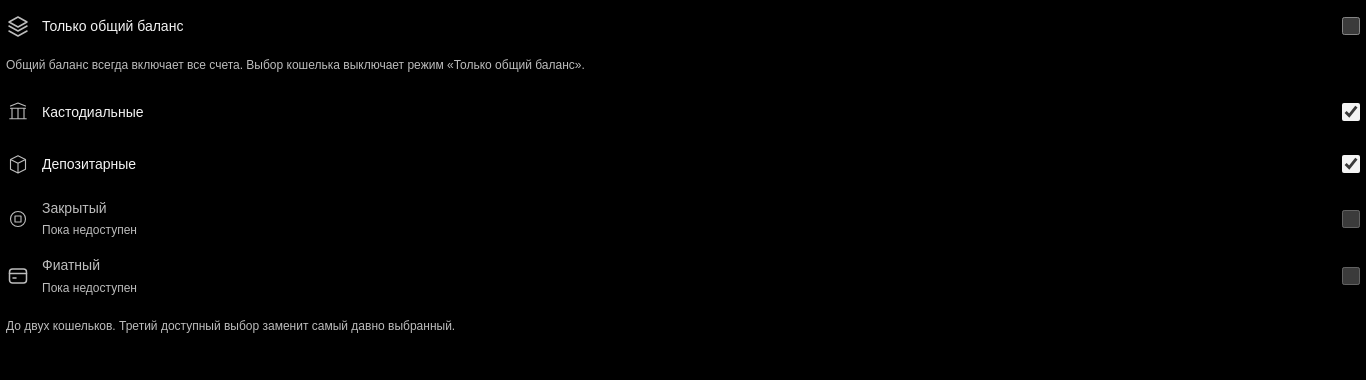
Test: keeps choices while total-only hides pins and explains how manual selection restores them
The width and height of the screenshot is (1366, 380).
Click the checkbox labelled "Только общий баланс" at (1351, 26), box [1342,17,1360,35]
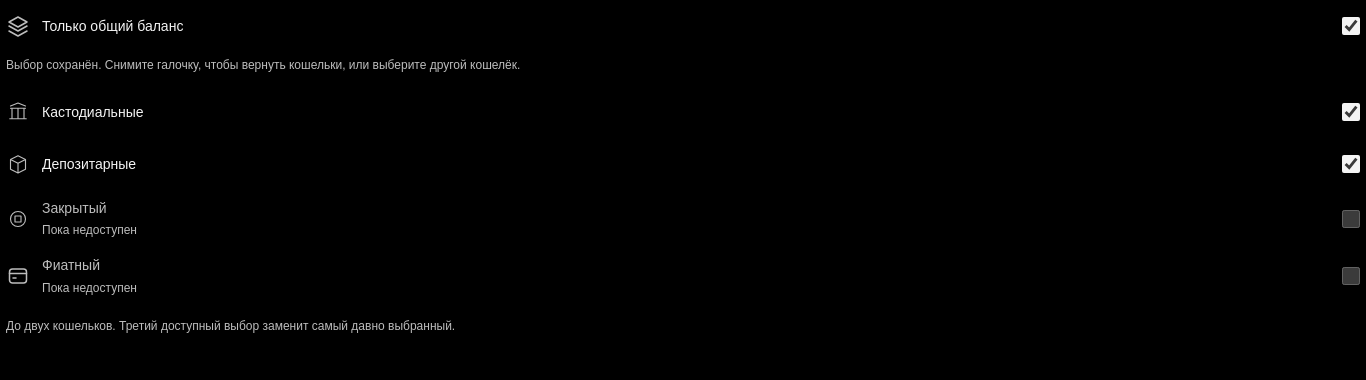
Expected: the checkbox labelled "Кастодиальные" is checked, [1342,103,1360,121]
Expected: the checkbox labelled "Только общий баланс" is checked, [1342,17,1360,35]
Expected: the text "Выбор сохранён" is shown, [6,58,520,72]
Click the checkbox labelled "Депозитарные" at (1351, 164), box [1342,155,1360,173]
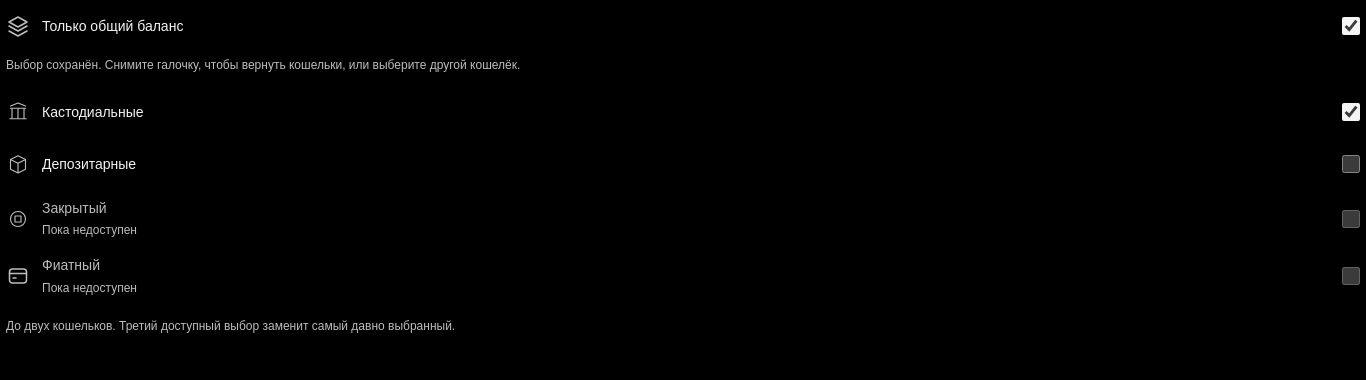
Click the checkbox labelled "Депозитарные" at (1351, 164), box [1342,155,1360,173]
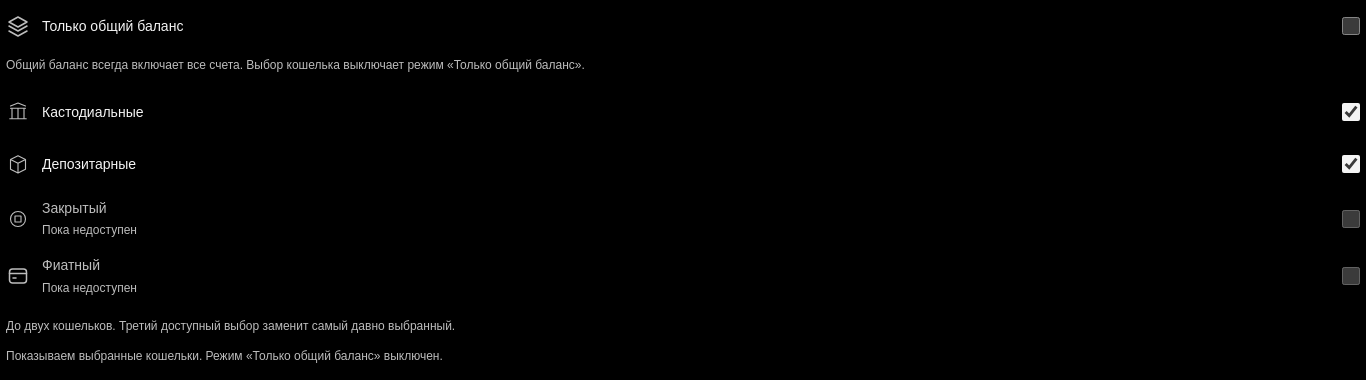
Expected: the checkbox labelled "Только общий баланс" is not checked, [1342,17,1360,35]
Expected: the message shows "Показываем выбранные кошельки", [6,349,443,363]
